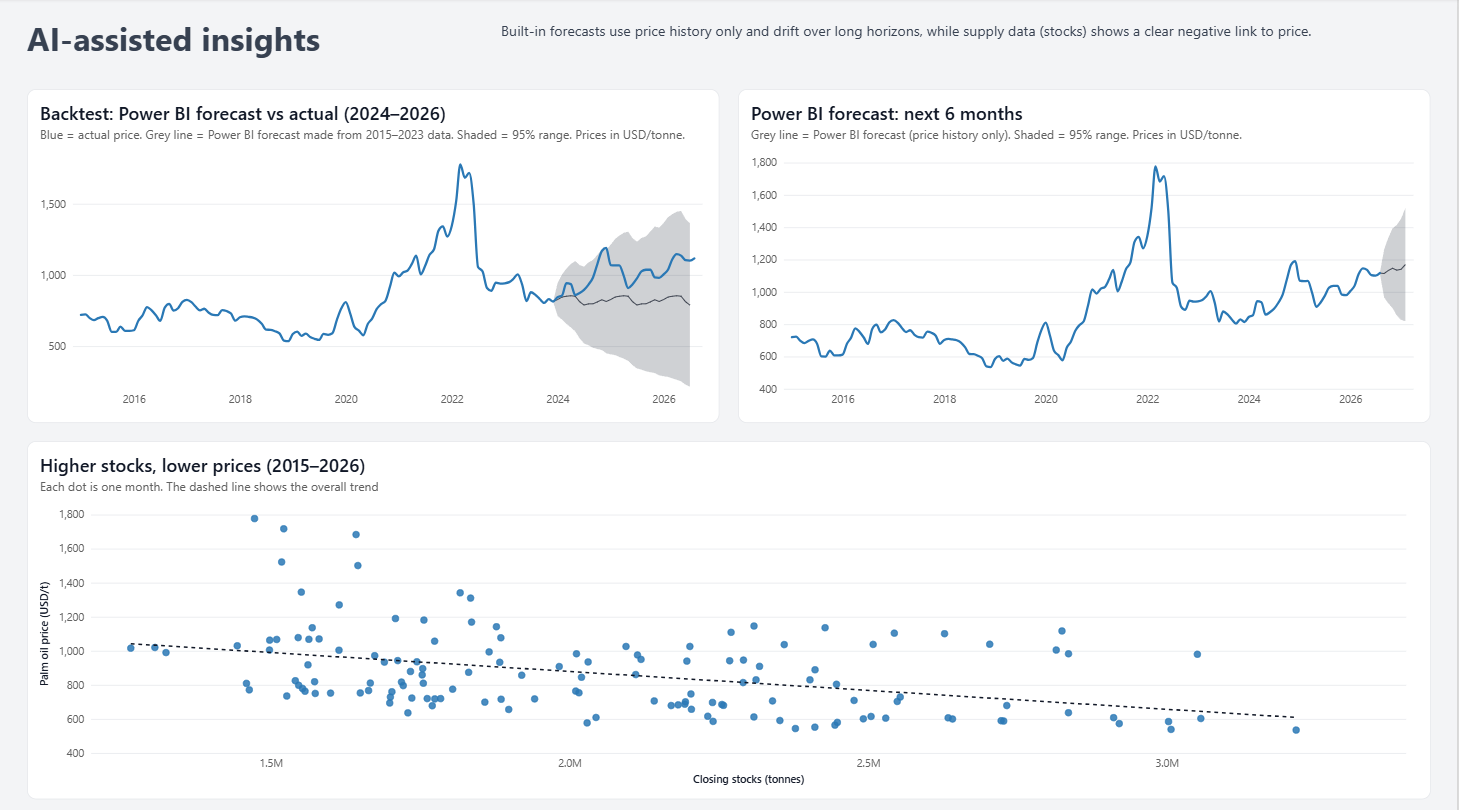

This screenshot's page, from the dashboard's own definition file:
{"tool":"powerbi","page":{"name":"AI  Insights","canvas":[1920,1080],"ordinal":1},"visuals":[{"type":"textbox","box":[36,24,600,72],"z":0},{"type":"lineChart","title":"Backtest: Power BI forecast vs actual (2024–2026)","fields":{"Category":["palm_oil_monthly.date"],"Y":["Sum(palm_oil_monthly.price_usd)"]},"box":[36,120,912,440],"z":1},{"type":"lineChart","title":"Power BI forecast: next 6 months","fields":{"Category":["palm_oil_monthly.date"],"Y":["Sum(palm_oil_monthly.price_usd)"]},"box":[972,120,912,440],"z":2},{"type":"scatterChart","title":"Higher stocks, lower prices (2015–2026)","fields":{"Category":["palm_oil_monthly.MonthLabel"],"X":["palm_oil_monthly.Avg Stocks"],"Y":["palm_oil_monthly.Avg Price"]},"box":[36,584,1849,472],"z":3},{"type":"textbox","box":[660,30,1224,72],"z":4}]}

Visuals, with their boxes in screenshot pixels (x1, y1, x2, y2), scaled from the page's 1920x1080 canvas onto the 1459x810 screenshot:
textbox: rect(27, 18, 483, 72)
"Backtest: Power BI forecast vs actual (2024–2026)" lineChart: rect(27, 90, 720, 420)
"Power BI forecast: next 6 months" lineChart: rect(739, 90, 1432, 420)
"Higher stocks, lower prices (2015–2026)" scatterChart: rect(27, 438, 1432, 792)
textbox: rect(502, 22, 1432, 76)
